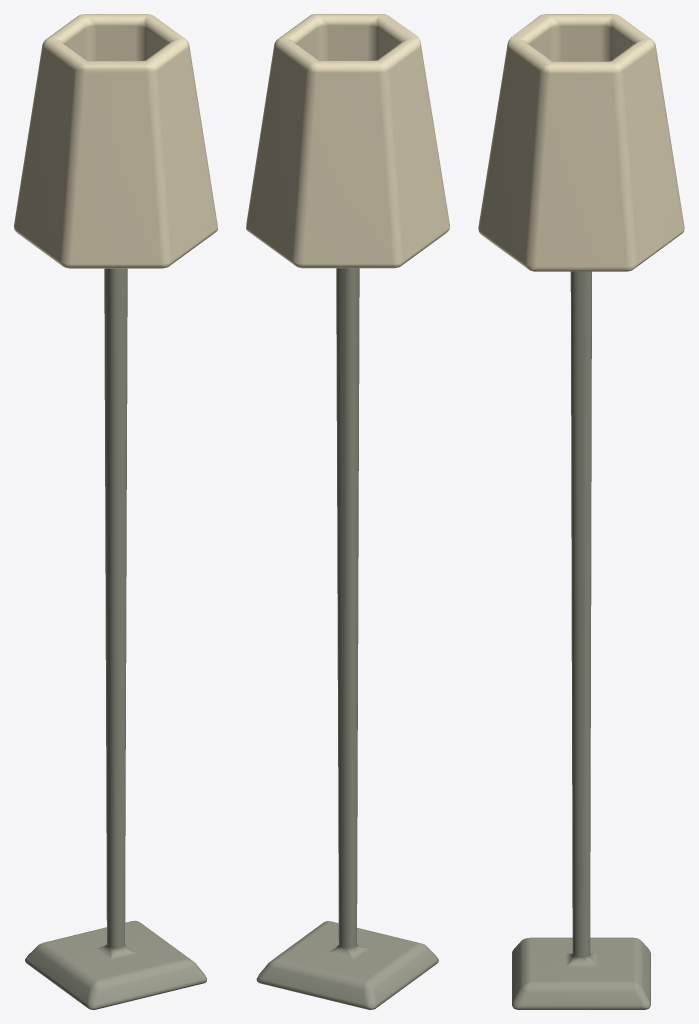
The model's file is lampRoundFloor.glb.
3 views of the same model, side by side, from view 1: azimuth 30°, elevation 25°; view 2: azimuth 150°, elevation 25°; view 3: azimuth 270°, elevation 25° (orthographic).
Visible parts, largest first — view 1: lampRoundFloor(Clone); view 2: lampRoundFloor(Clone); view 3: lampRoundFloor(Clone).
Boxes of the visible parts, x1=… form: lampRoundFloor(Clone): x1=14, y1=14, x2=217, y2=1009; lampRoundFloor(Clone): x1=246, y1=14, x2=449, y2=1009; lampRoundFloor(Clone): x1=478, y1=14, x2=684, y2=1009.
Bounding box in the file's own units: 0.1505 × 0.86 × 0.1704.
